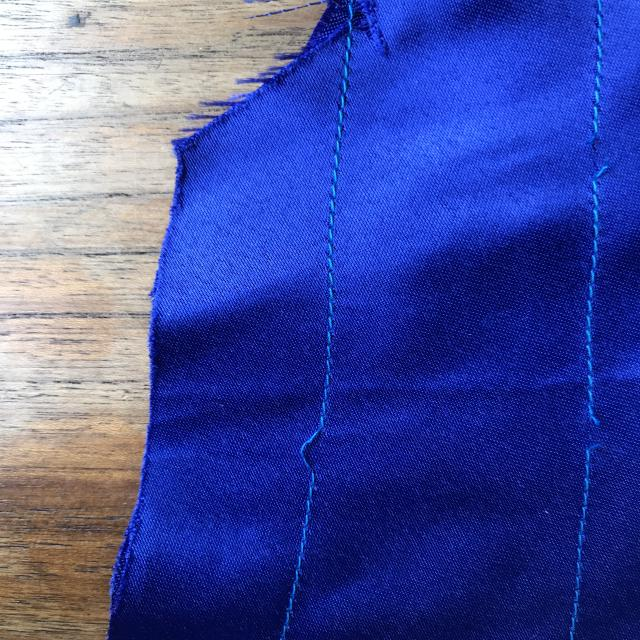broken: (566, 374, 624, 490), (568, 99, 616, 194)
good: (302, 127, 360, 246)
skip: (292, 408, 351, 495)
